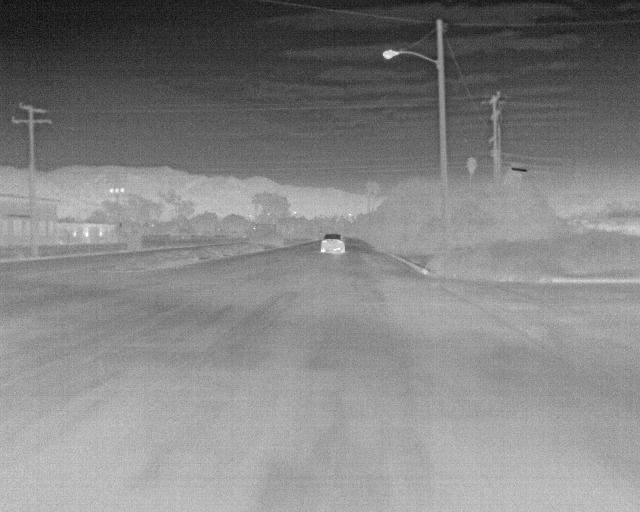car: (317, 233, 344, 255)
